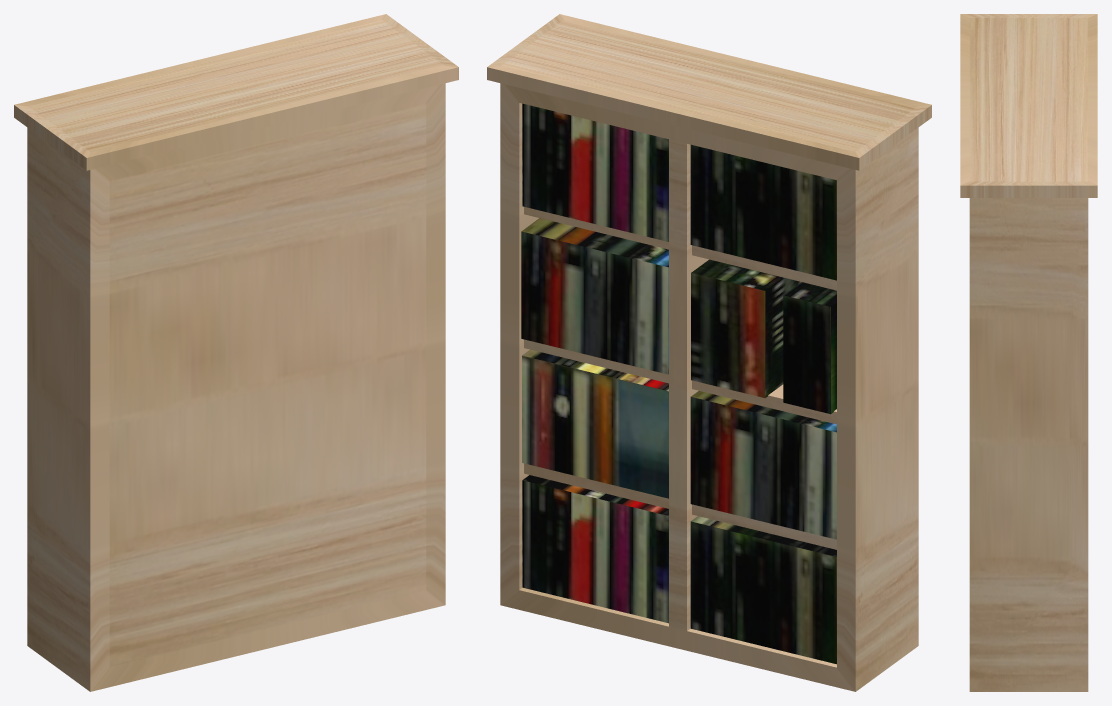
File: cd locker library.FBX
The picture shows the model from 3 angles, left to right: view 1: azimuth 30°, elevation 25°; view 2: azimuth 150°, elevation 25°; view 3: azimuth 270°, elevation 25°; orthographic projection. The views are drawn at different scales.
Visible parts, largest first — view 1: Box001; view 2: Box001, Box008, Box005, Box004, Box002, Box003, Box006, Box007, Box009, Box010; view 3: Box001.
Boxes of the visible parts, left/top/right/bottom form: Box001: left=14, top=14, right=458, bottom=691; Box001: left=487, top=14, right=931, bottom=691; Box008: left=521, top=218, right=668, bottom=374; Box005: left=522, top=349, right=668, bottom=498; Box004: left=690, top=391, right=836, bottom=539; Box002: left=522, top=475, right=668, bottom=623; Box003: left=690, top=516, right=836, bottom=664; Box006: left=522, top=103, right=668, bottom=241; Box007: left=690, top=144, right=836, bottom=280; Box009: left=691, top=259, right=800, bottom=397; Box010: left=783, top=282, right=836, bottom=414; Box001: left=960, top=14, right=1097, bottom=691.
Bounding box in the file's own units: 43.86 × 60.75 × 14.83.
7 materials, 7 textured.
